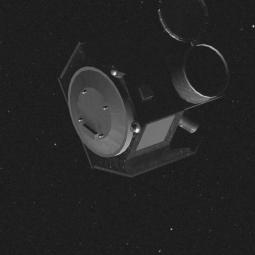cheops: (51, 0, 255, 180)
